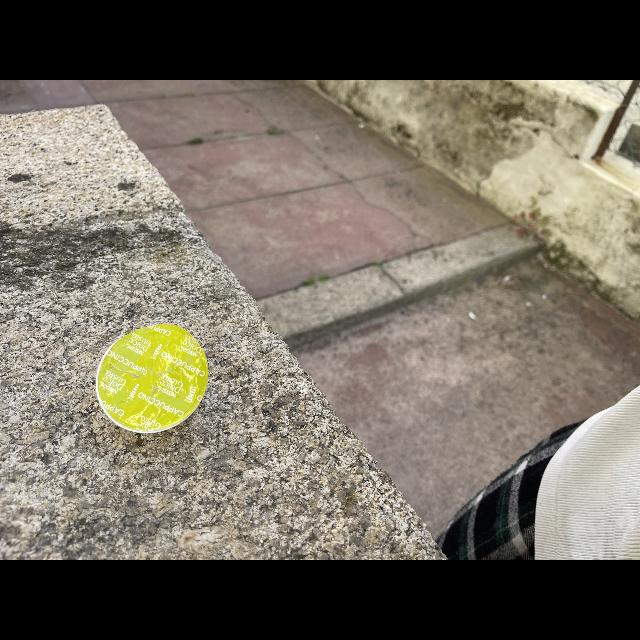damaged_capsule: (87, 321, 217, 441)
